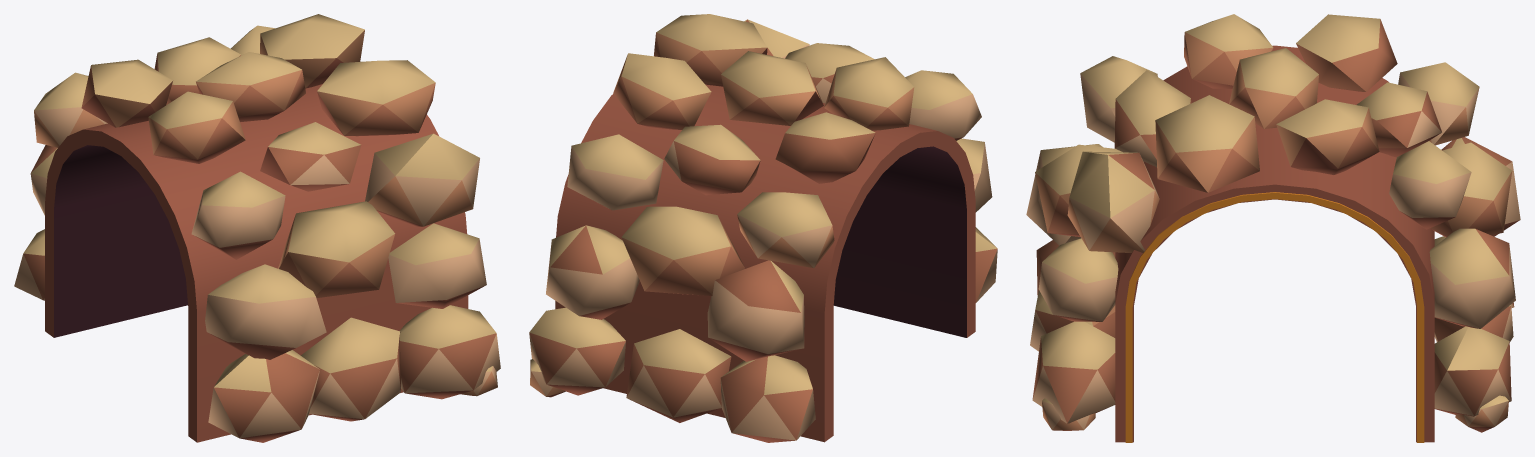
The model's file is citrus-cave.glb.
3 views of the same model, side by side, from view 1: azimuth 30°, elevation 25°; view 2: azimuth 150°, elevation 25°; view 3: azimuth 270°, elevation 25° (orthographic). The views are drawn at different scales.
Parts seen in each view (by area): view 1: citrus-cave; view 2: citrus-cave; view 3: citrus-cave.
Boxes of the visible parts, bbox=[...] form: citrus-cave: bbox=[14, 14, 500, 442]; citrus-cave: bbox=[529, 14, 997, 442]; citrus-cave: bbox=[1026, 14, 1520, 442].
Bounding box in the file's own units: 3 × 2.97 × 4.21.
